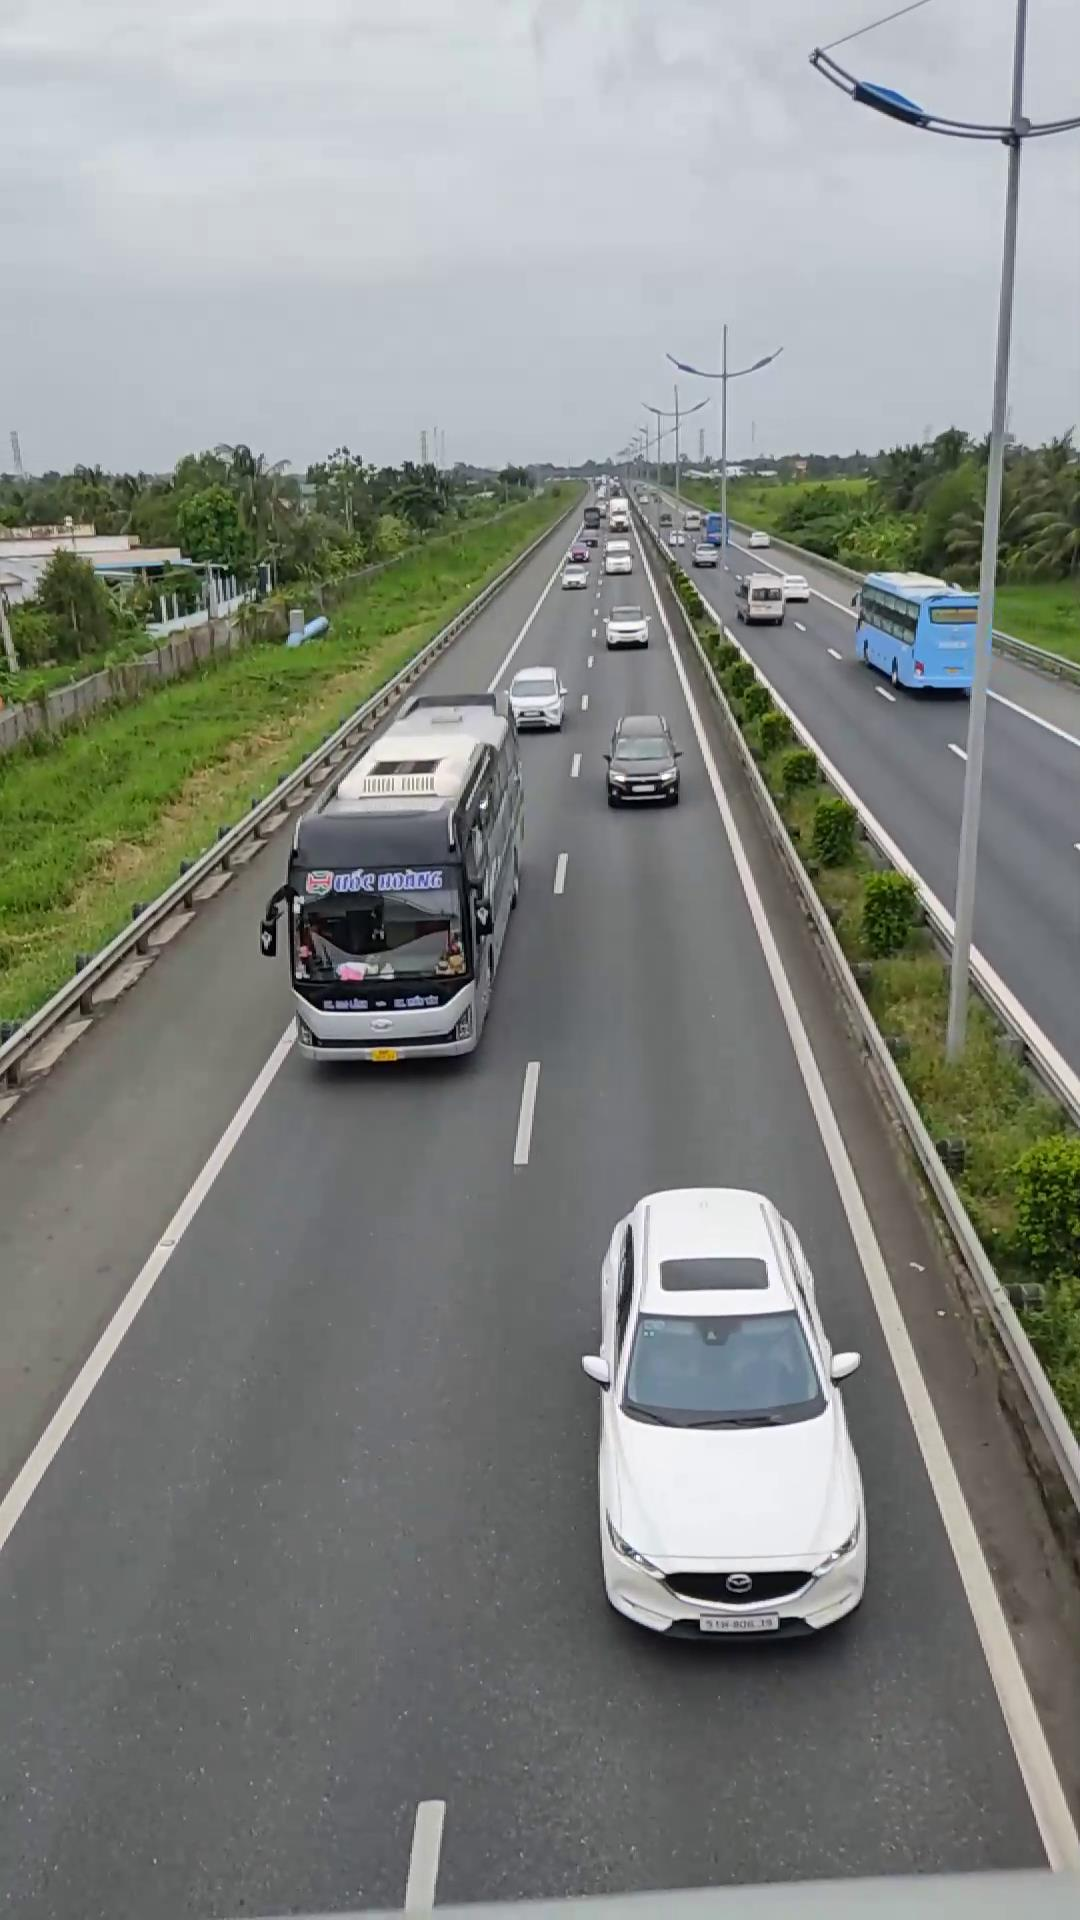bus: (268, 700, 525, 1065)
car: (582, 1183, 870, 1644), (601, 713, 683, 807), (495, 665, 574, 731)
